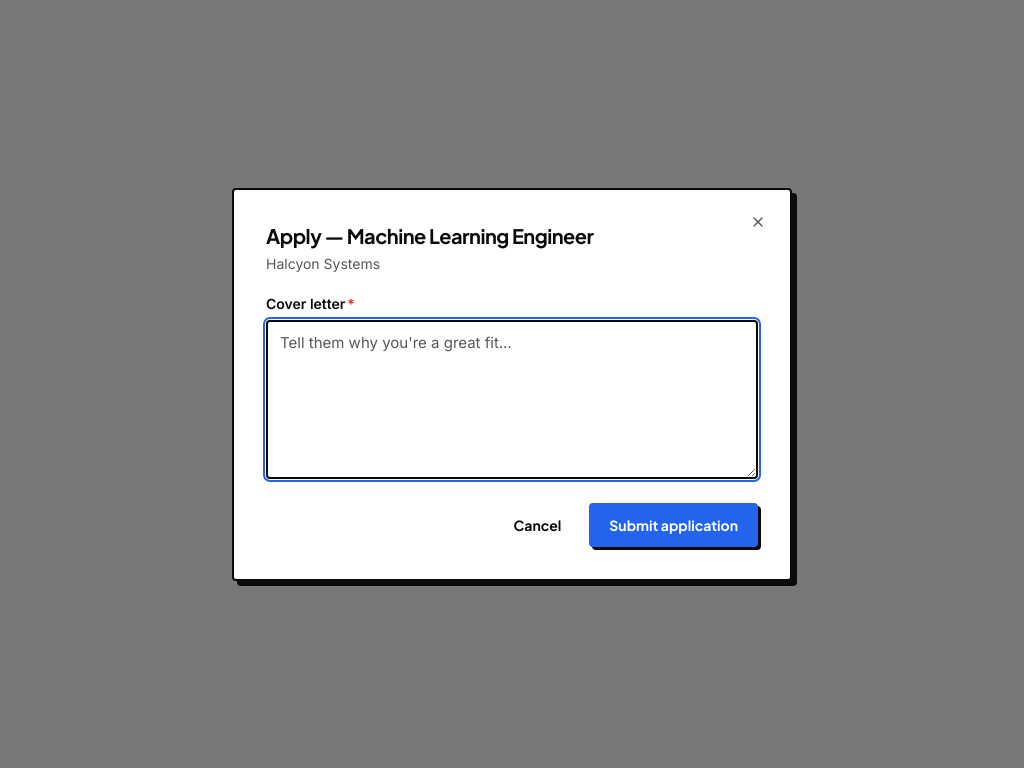
Scenario: ApplyModal › submits the apply contract, shows a success toast, and refreshes the applications cache
The image size is (1024, 768).
In the text box labelled "Cover letter*": (512, 399) [266,320,758,478], type "Hi, I would love this role!"
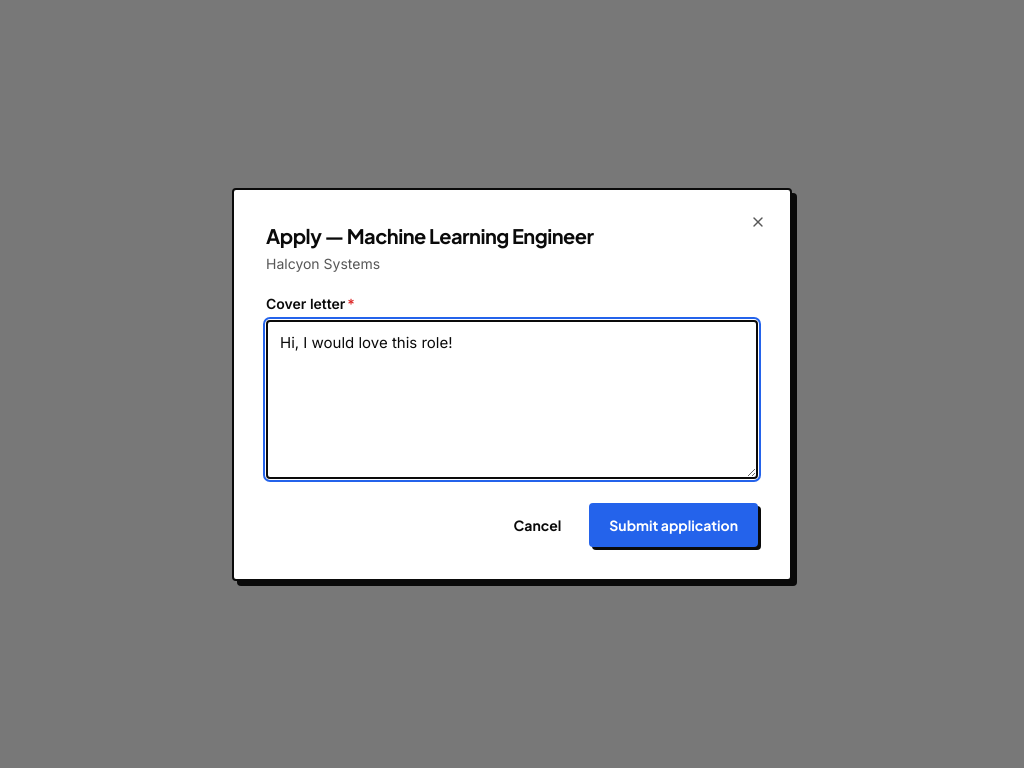
Click the button "Submit application": (674, 524) [589,502,758,546]
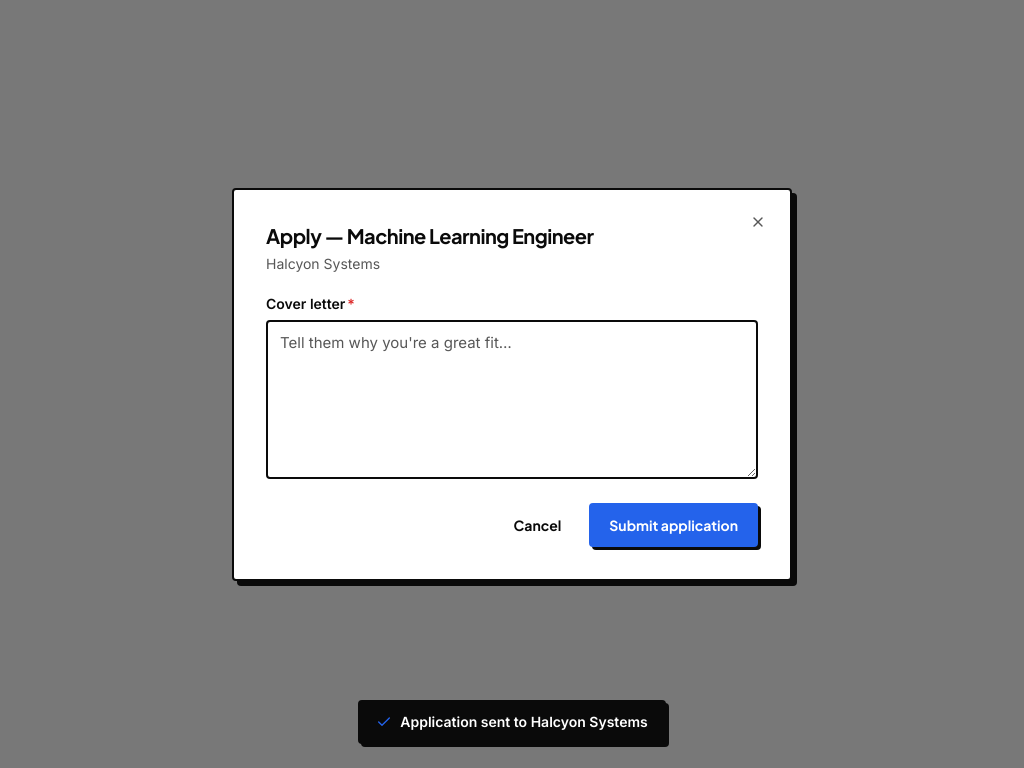
Now the text "Application sent to Halcyon Systems" is shown, box [358,700,666,744]
